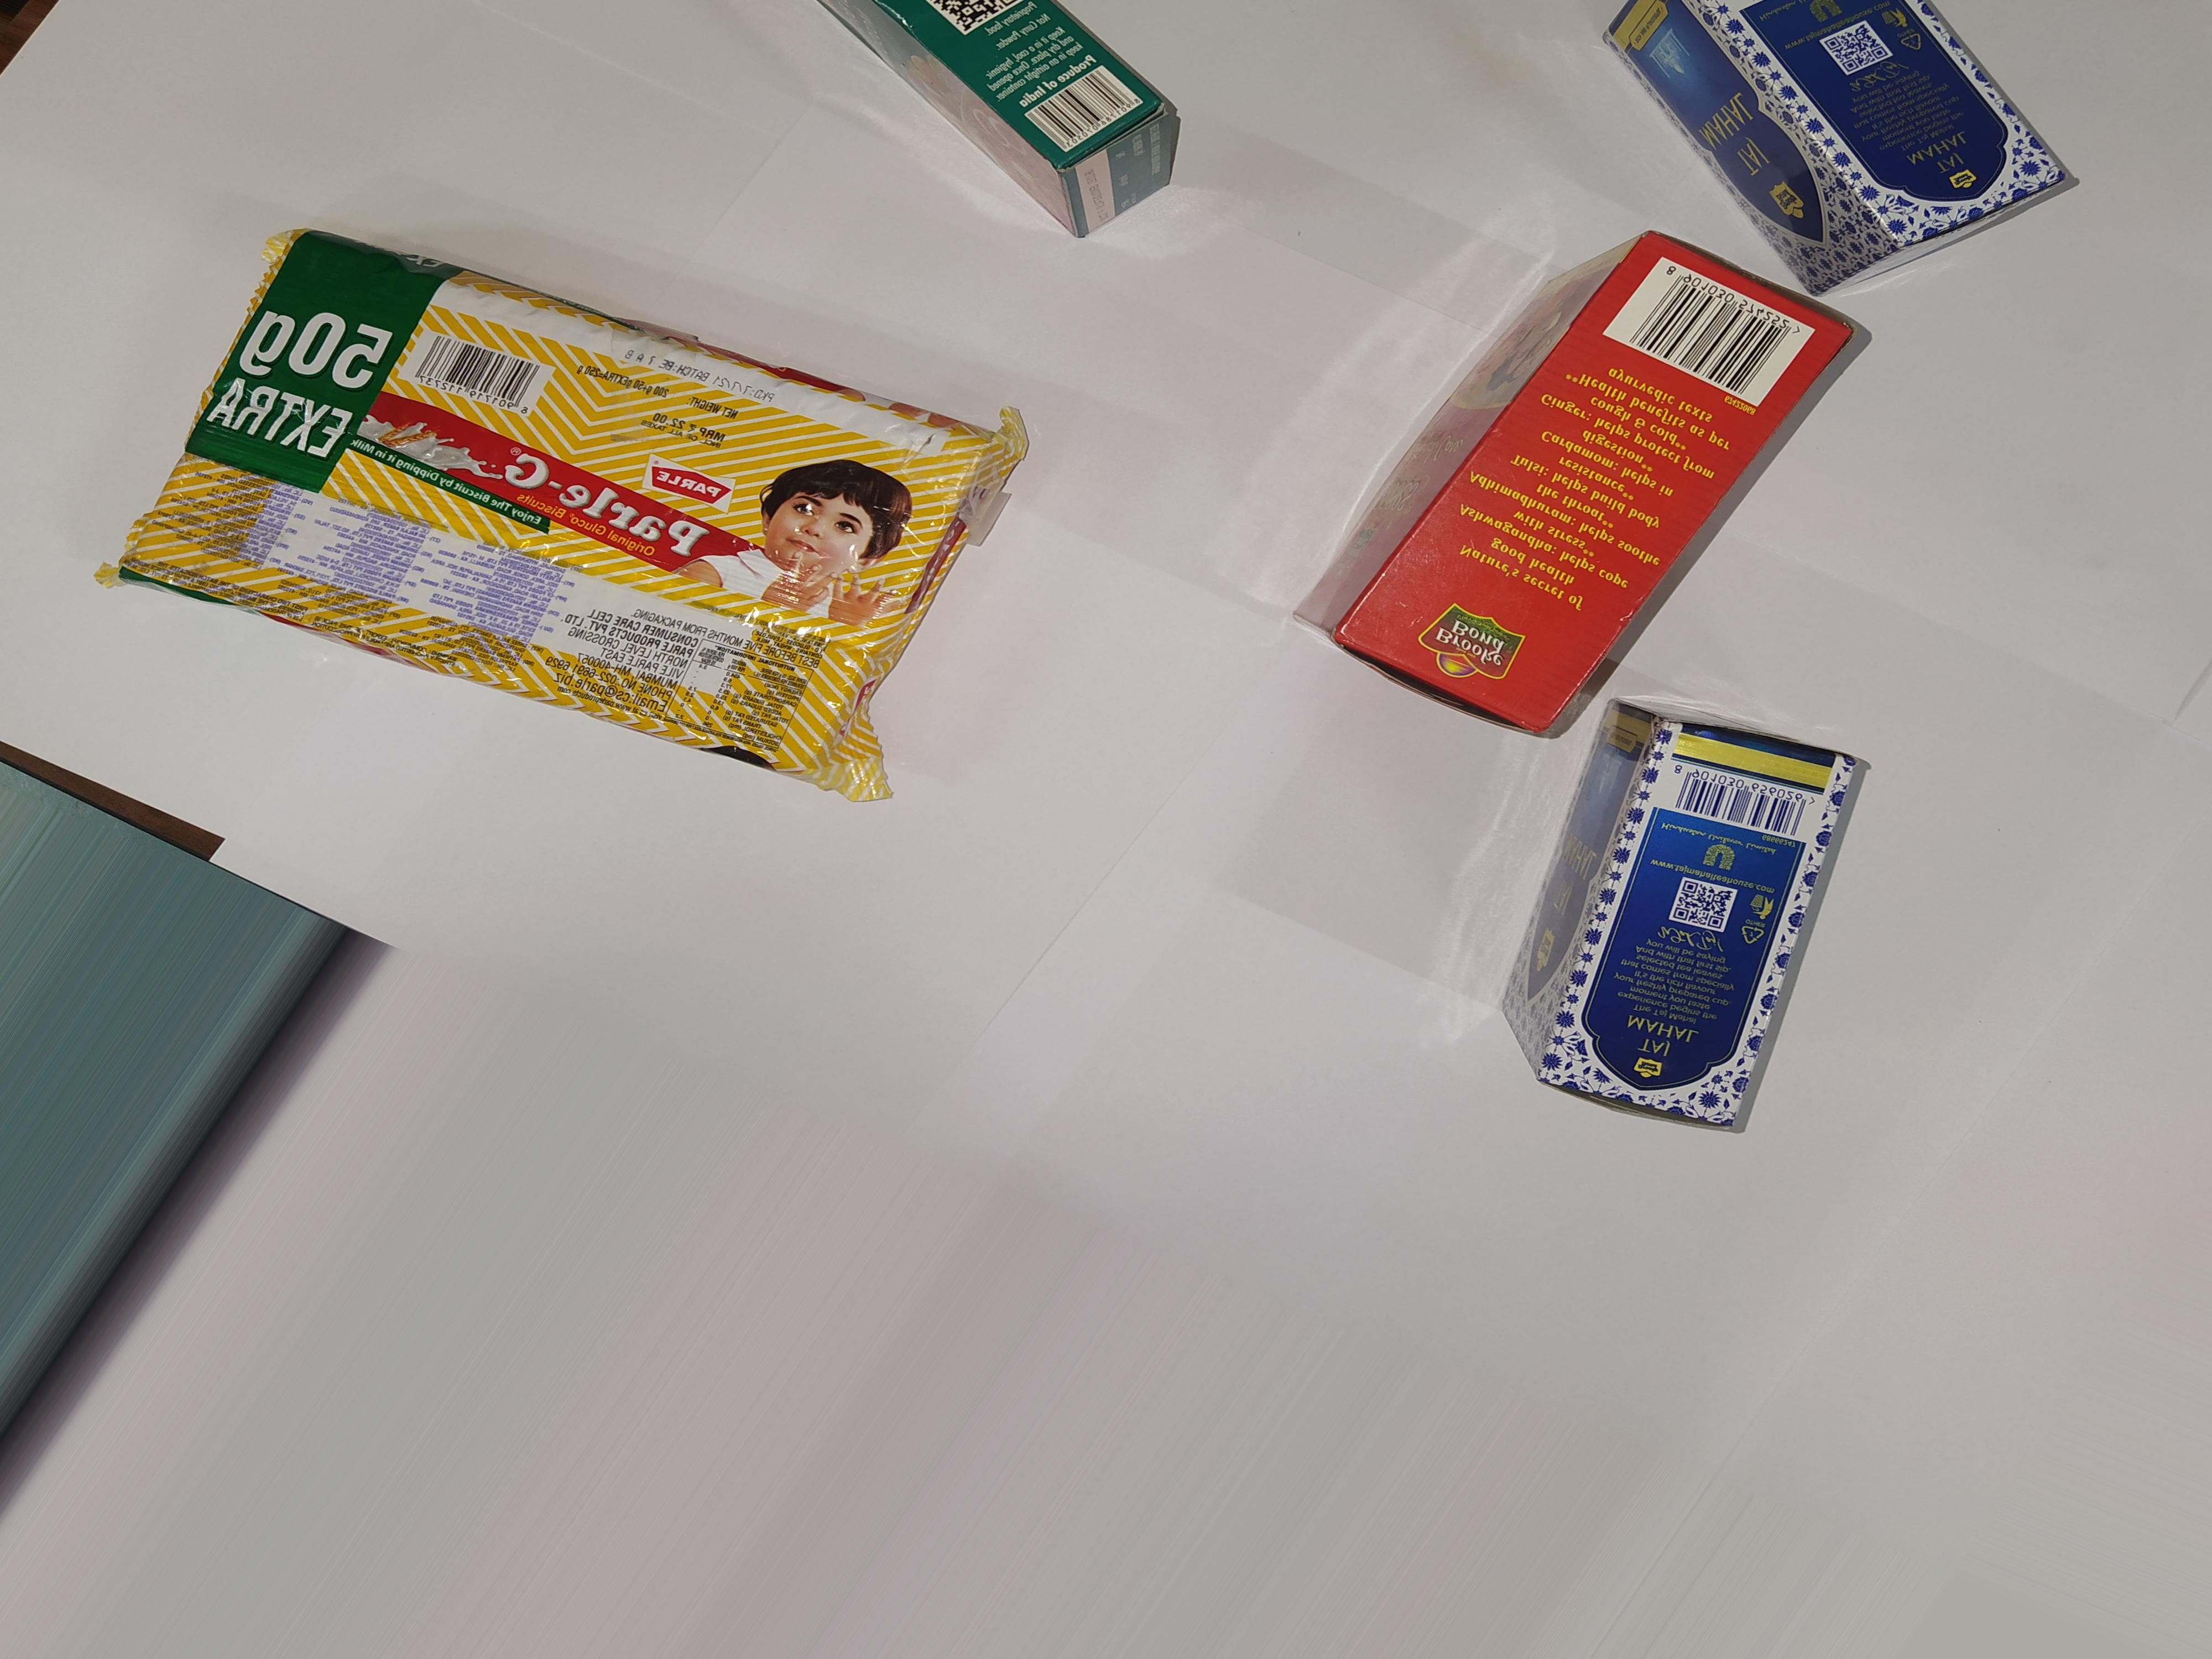Bar_code: (1581, 239, 1864, 410), (392, 328, 566, 432), (1010, 63, 1153, 164), (1670, 763, 1825, 847)
Item: (63, 190, 1050, 831), (1331, 185, 1862, 725), (1519, 0, 2113, 333), (1510, 685, 1836, 1173)
QR_code: (1813, 14, 1898, 80), (1665, 871, 1743, 934)
